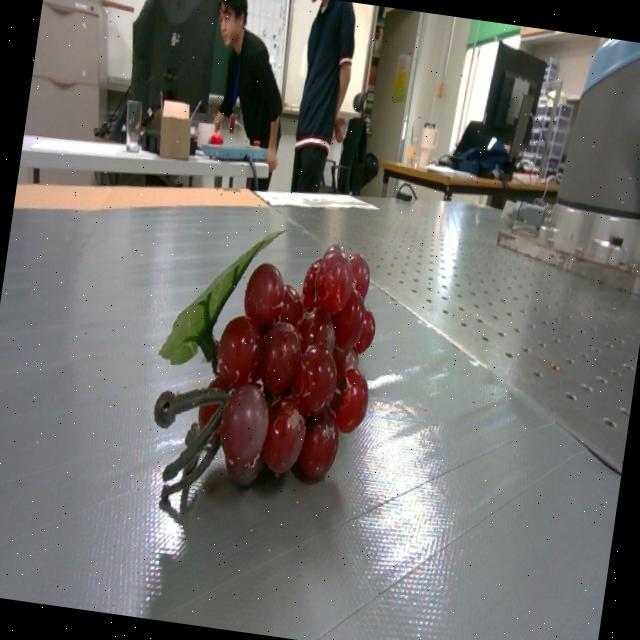grape: (154, 232, 375, 523)
